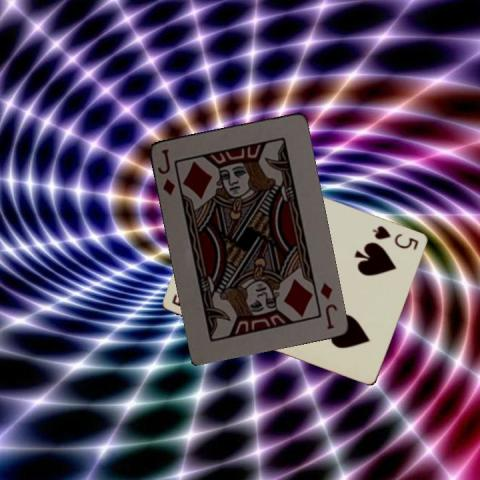5s: (370, 222, 420, 251)
Jd: (154, 145, 176, 197), (317, 278, 338, 330)
